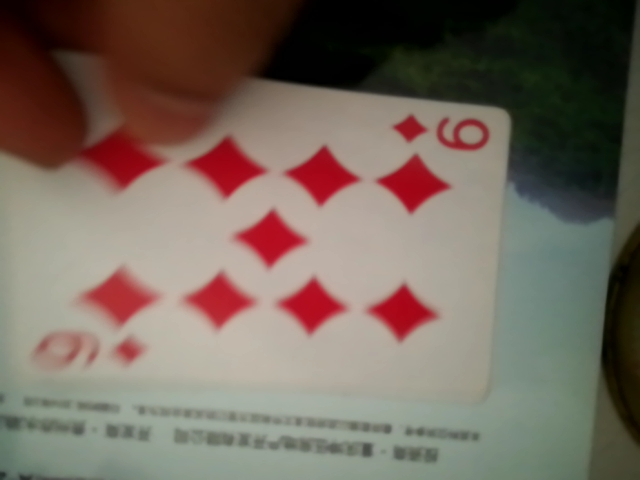fk 9: (13, 75, 525, 427)
